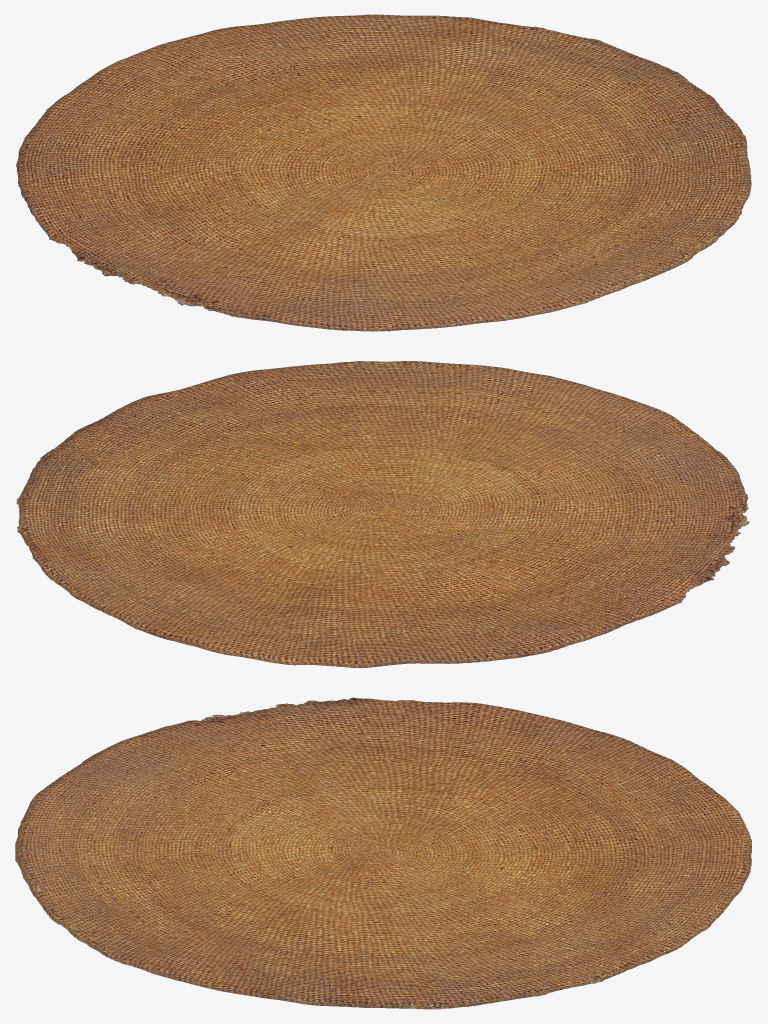
Rendered from SM_StrawMat373.fbx.
3 views of the same model, one above another, from view 1: azimuth 30°, elevation 25°; view 2: azimuth 150°, elevation 25°; view 3: azimuth 270°, elevation 25° (orthographic). The views are drawn at different scales.
Parts seen in each view (by area): view 1: SM_StrawMat373; view 2: SM_StrawMat373; view 3: SM_StrawMat373.
Boxes of the visible parts, <box> form: SM_StrawMat373: <box>16,14,751,331</box>; SM_StrawMat373: <box>16,361,749,668</box>; SM_StrawMat373: <box>15,697,751,1009</box>.
Bounding box in the file's own units: 163 × 2.23 × 163.
